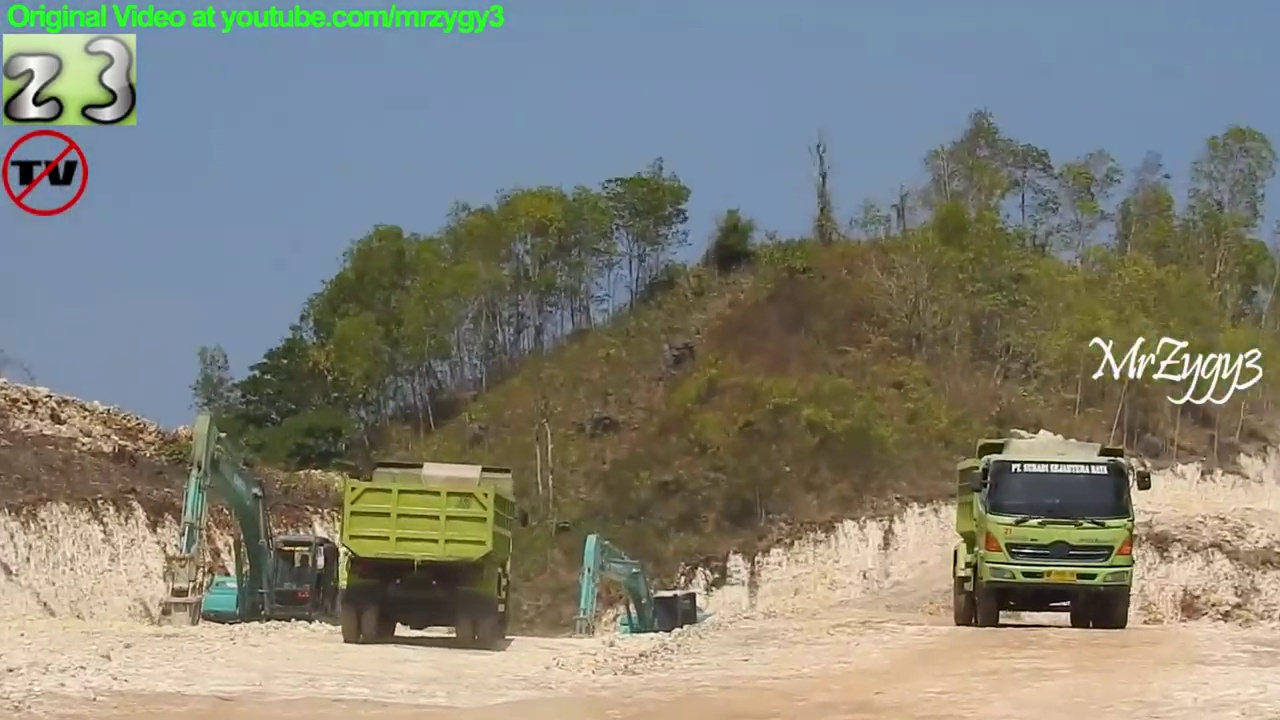excavator: (160, 407, 343, 638), (567, 527, 706, 657)
truck: (946, 426, 1155, 637), (343, 451, 523, 652)
